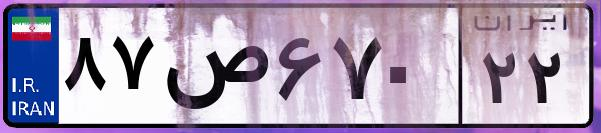0: (385, 28, 445, 110)
2: (475, 38, 525, 113), (525, 38, 570, 115)
6: (270, 28, 330, 110)
7: (330, 28, 385, 110), (110, 28, 158, 98)
8: (57, 26, 110, 100)
ص: (158, 20, 270, 120)
